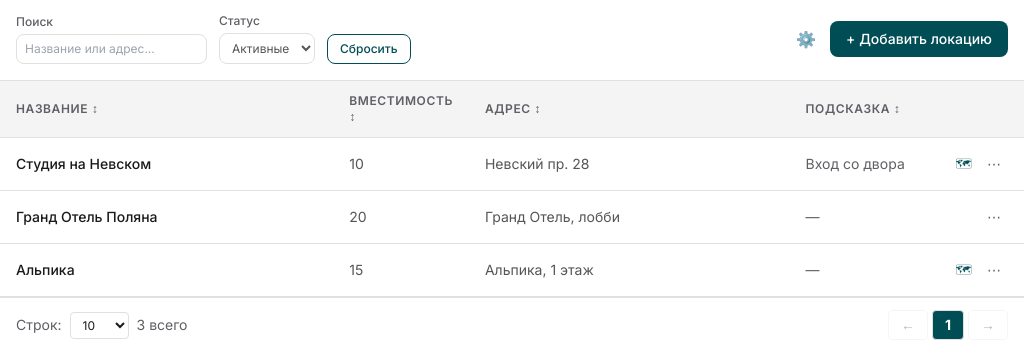
it: LocationsTable › first header click sorts asc, second click toggles desc (server sort)
The width and height of the screenshot is (1024, 357).
Expected: the text "Студия на Невском" is shown, [16,155,151,172]
Expected: the text "Гранд Отель Поляна" is shown, [16,208,158,225]
Click the button "Название ↕" at (52, 108), box [16,101,317,117]
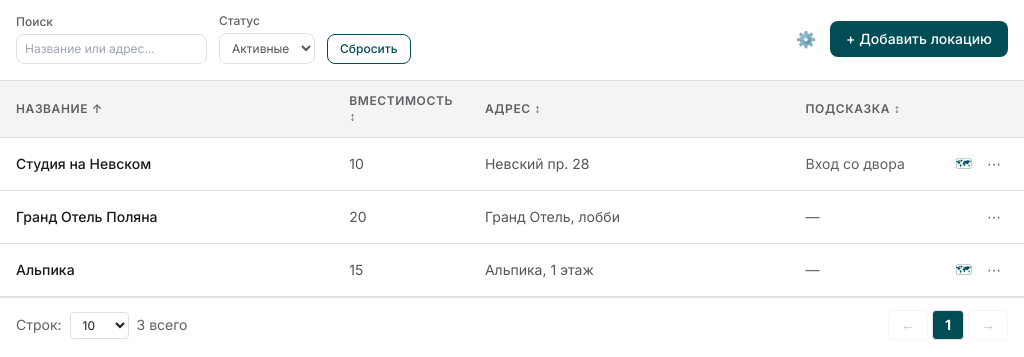
Expected: the button "Название ↑" is shown
Click the button "Название ↑" at (52, 108), box [16,101,317,117]
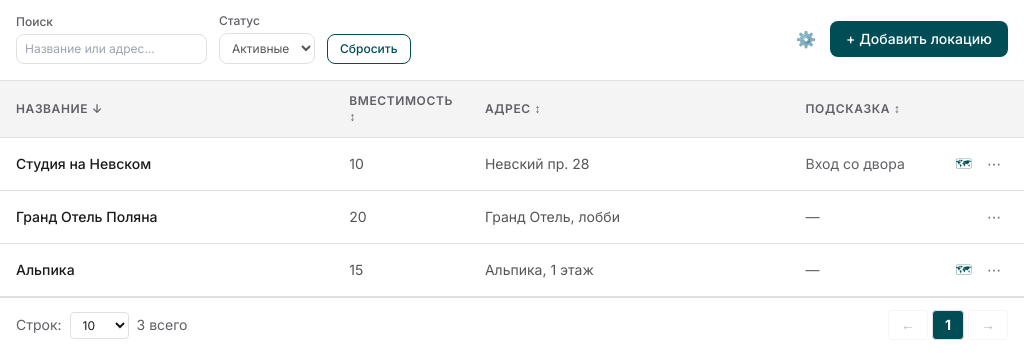
Expected: the button "Название ↓" is shown, [16,101,317,117]
